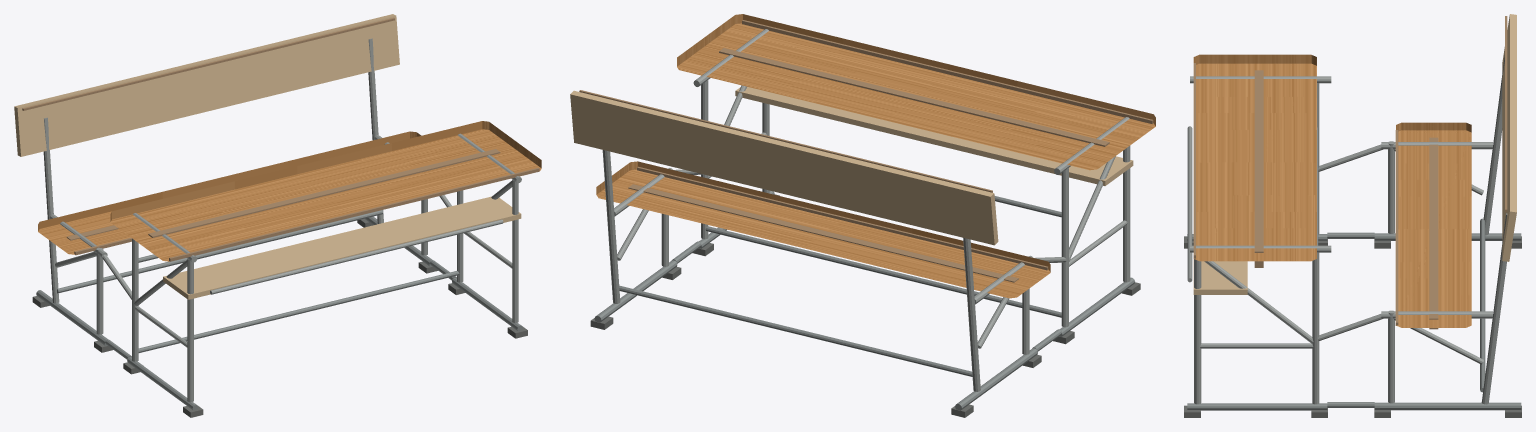
File: kien_an_school_desk_bench.glb
3 views of the same model, side by side, from view 1: azimuth 30°, elevation 25°; view 2: azimuth 150°, elevation 25°; view 3: azimuth 270°, elevation 25° (orthographic). The views are drawn at different scales.
Parts seen in each view (by area): view 1: Desk_Wood_Top, Bench_Backrest, BookShelfWood, Bench_Wood_Seat, Desk_Wood_Skirt, Desk_Wood_Top_edge_side, DeskLowerCross, BenchLowerCross, BookShelfRail, Backrest_TopTrim, Left_SeatBackLeg, Left_DeskFrontLeg (+7 smaller); view 2: Desk_Wood_Top, Bench_Backrest, Bench_Wood_Seat, BookShelfWood, Desk_Wood_Skirt, Bench_Wood_Skirt, BenchLowerCross, Desk_Wood_Top_edge_side, DeskLowerCross, Bench_Wood_Seat_edge_side, Right_SeatBackLeg, Left_SeatBackLeg (+7 smaller); view 3: Desk_Wood_Top, Bench_Wood_Seat, Bench_Backrest, Desk_Wood_Skirt, Bench_Wood_Skirt, BookShelfWood, Right_BenchFoot, Right_SeatBackLeg, Right_DeskBackLeg, Right_DeskFrontLeg, Right_DeskBaseRunner, Left_SeatBackLeg (+19 smaller).
Part boxes in pixels (bbox=[...]): Desk_Wood_Top: bbox=[110, 121, 541, 261]; Bench_Backrest: bbox=[14, 14, 399, 156]; BookShelfWood: bbox=[163, 196, 521, 299]; Bench_Wood_Seat: bbox=[38, 131, 421, 254]; Desk_Wood_Skirt: bbox=[148, 149, 500, 237]; Desk_Wood_Top_edge_side: bbox=[169, 167, 539, 261]; DeskLowerCross: bbox=[138, 271, 459, 352]; BenchLowerCross: bbox=[57, 210, 383, 293]; BookShelfRail: bbox=[210, 219, 503, 294]; Backrest_TopTrim: bbox=[22, 17, 394, 110]; Left_SeatBackLeg: bbox=[43, 117, 59, 303]; Left_DeskFrontLeg: bbox=[187, 258, 193, 402]; Desk_Wood_Top: bbox=[677, 14, 1155, 170]; Bench_Backrest: bbox=[570, 90, 998, 245]; Bench_Wood_Seat: bbox=[596, 161, 1050, 298]; BookShelfWood: bbox=[735, 87, 1133, 185]; Desk_Wood_Skirt: bbox=[719, 48, 1109, 146]; Bench_Wood_Skirt: bbox=[628, 184, 1018, 282]; BenchLowerCross: bbox=[619, 285, 972, 376]; Desk_Wood_Top_edge_side: bbox=[742, 20, 1153, 123]; DeskLowerCross: bbox=[705, 226, 1061, 317]; Bench_Wood_Seat_edge_side: bbox=[637, 166, 1048, 270]; Right_SeatBackLeg: bbox=[602, 150, 620, 303]; Left_SeatBackLeg: bbox=[963, 238, 980, 391]; Desk_Wood_Top: bbox=[1193, 54, 1316, 261]; Bench_Wood_Seat: bbox=[1396, 122, 1471, 327]; Bench_Backrest: bbox=[1502, 14, 1516, 261]; Desk_Wood_Skirt: bbox=[1254, 70, 1263, 267]; Bench_Wood_Skirt: bbox=[1429, 137, 1438, 329]; BookShelfWood: bbox=[1193, 259, 1247, 294]; Right_BenchFoot: bbox=[1374, 402, 1521, 410]; Right_SeatBackLeg: bbox=[1481, 213, 1507, 404]; Right_DeskBackLeg: bbox=[1312, 252, 1319, 404]; Right_DeskFrontLeg: bbox=[1194, 259, 1201, 404]; Right_DeskBaseRunner: bbox=[1187, 403, 1327, 410]; Left_SeatBackLeg: bbox=[1483, 55, 1504, 235].
Bounding box in the file's own units: 1.82 × 0.9339 × 1.31.
2 materials, 2 textured.
